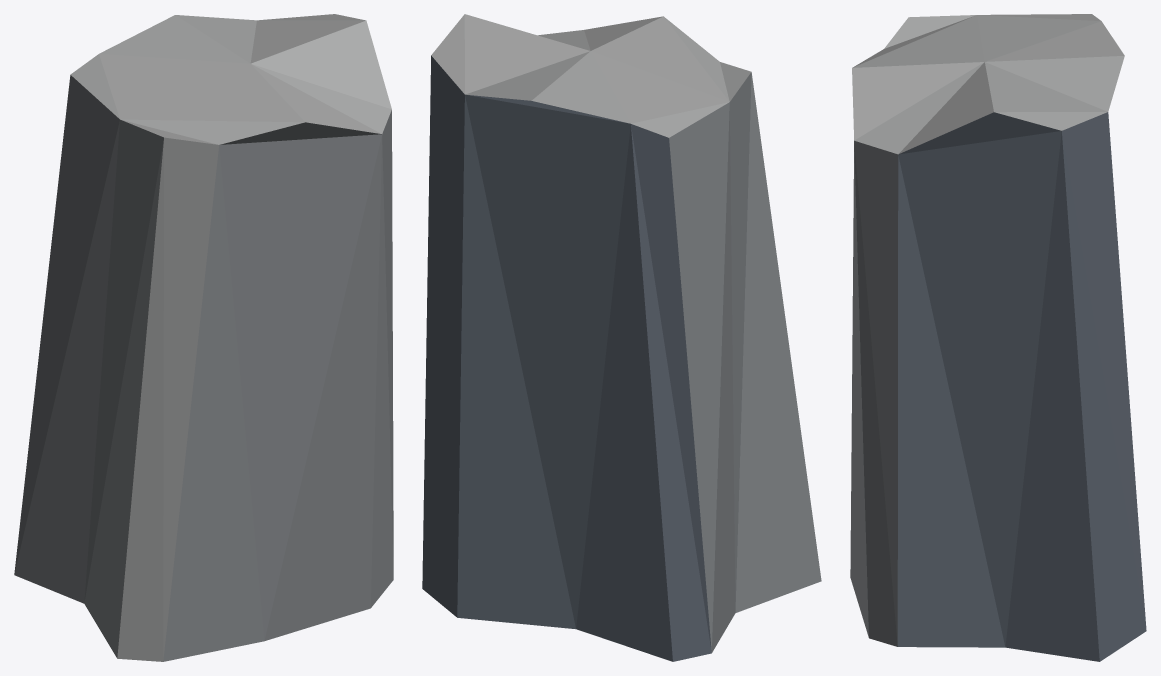
File: rock_tall.glb
3 views of the same model, side by side, from view 1: azimuth 30°, elevation 25°; view 2: azimuth 150°, elevation 25°; view 3: azimuth 270°, elevation 25° (orthographic). The views are drawn at different scales.
Visible parts, largest first — view 1: rock_tall; view 2: rock_tall; view 3: rock_tall.
Part boxes in pixels (x1,y1,x2,y2): rock_tall: [14, 14, 393, 661]; rock_tall: [422, 14, 821, 661]; rock_tall: [850, 14, 1146, 661].
Bounding box in the file's own units: 1.44 × 2.42 × 1.17.
